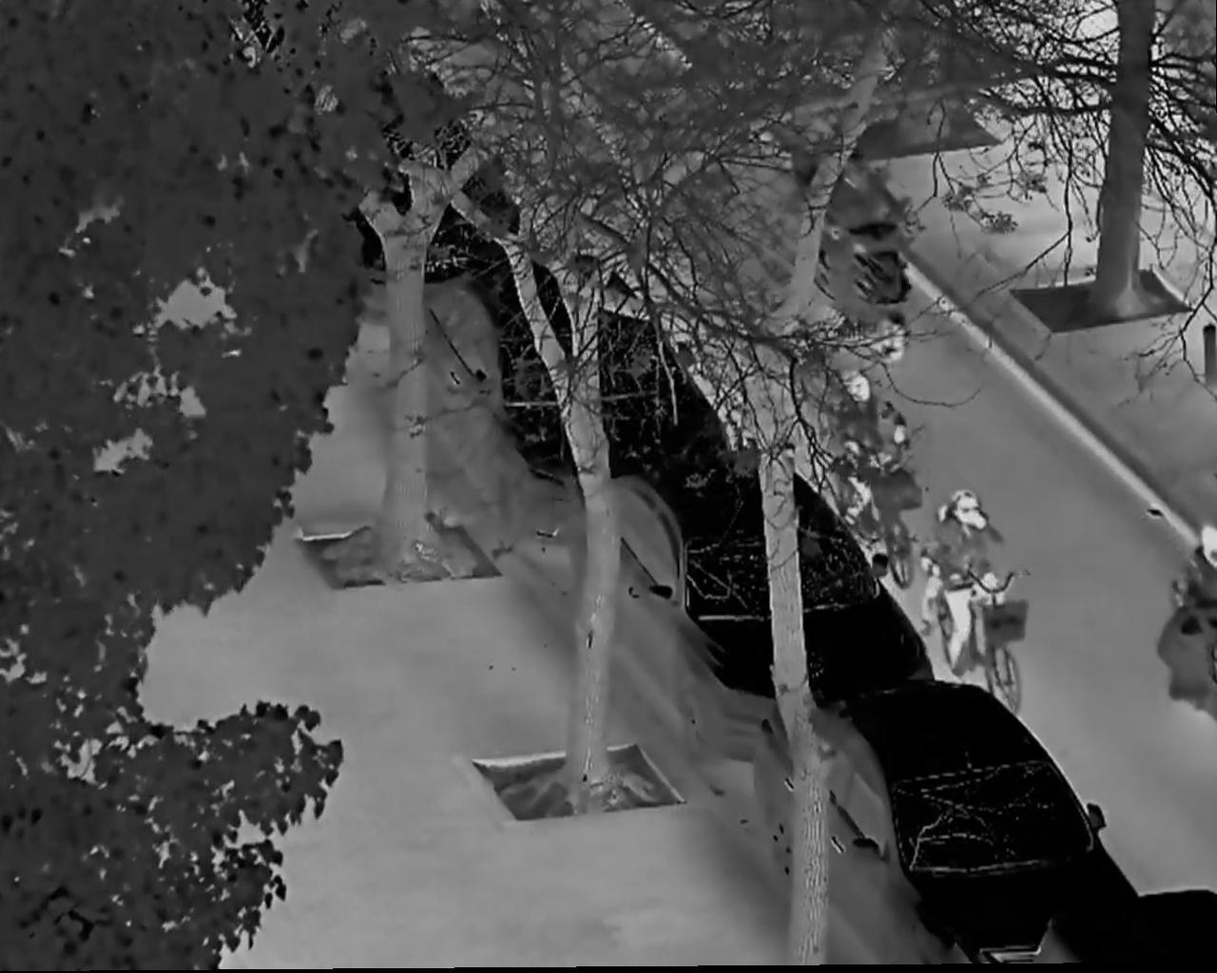person: (827, 369, 927, 551), (925, 487, 1010, 677), (820, 152, 909, 308), (1169, 517, 1217, 661)
